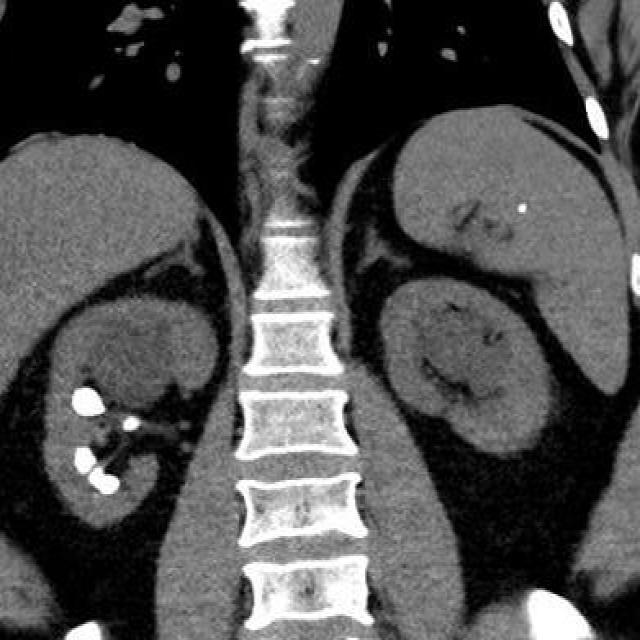Tas_Var: (61, 379, 110, 429), (83, 463, 125, 499), (64, 441, 100, 477), (115, 413, 155, 435)
